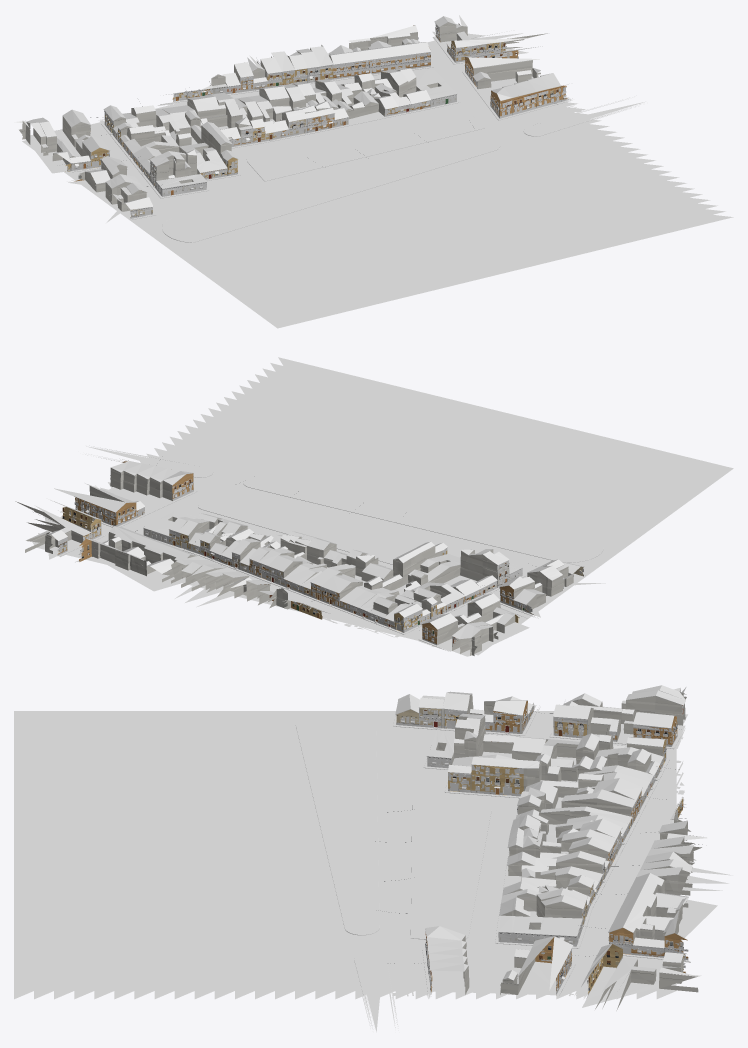
The model's file is zona_3_-4.glb.
3 renders of one model, top to bottom at view 1: azimuth 30°, elevation 25°; view 2: azimuth 150°, elevation 25°; view 3: azimuth 270°, elevation 25°, orthographic. The views are drawn at different scales.
Visible parts, largest first — view 1: z_calle_3_-4, z_tejados_3_-4, z_casas_3_-4, z_fachadas_3_-4, z_suelo_3_-4, z_casas_planas_3_-4; view 2: z_calle_3_-4, z_tejados_3_-4, z_casas_3_-4, z_fachadas_3_-4, z_suelo_3_-4, z_casas_planas_3_-4; view 3: z_calle_3_-4, z_tejados_3_-4, z_casas_3_-4, z_fachadas_3_-4, z_suelo_3_-4, z_casas_planas_3_-4.
Part boxes in pixels (left/top/right/bottom): z_calle_3_-4: left=22, top=31, right=733, bottom=328; z_tejados_3_-4: left=14, top=15, right=568, bottom=209; z_casas_3_-4: left=19, top=22, right=567, bottom=216; z_fachadas_3_-4: left=67, top=23, right=572, bottom=218; z_suelo_3_-4: left=61, top=63, right=581, bottom=225; z_casas_planas_3_-4: left=41, top=70, right=456, bottom=210; z_calle_3_-4: left=32, top=357, right=733, bottom=656; z_tejados_3_-4: left=26, top=459, right=583, bottom=640; z_casas_3_-4: left=15, top=461, right=583, bottom=655; z_fachadas_3_-4: left=57, top=461, right=583, bottom=646; z_suelo_3_-4: left=92, top=477, right=582, bottom=646; z_casas_planas_3_-4: left=143, top=507, right=568, bottom=641; z_calle_3_-4: left=14, top=705, right=732, bottom=1032; z_tejados_3_-4: left=395, top=685, right=706, bottom=991; z_casas_3_-4: left=396, top=689, right=701, bottom=1010; z_fachadas_3_-4: left=396, top=703, right=688, bottom=998; z_suelo_3_-4: left=362, top=712, right=684, bottom=996; z_casas_planas_3_-4: left=422, top=695, right=673, bottom=946.
Size of the model in its own units: 238 by 12.13 by 215.
